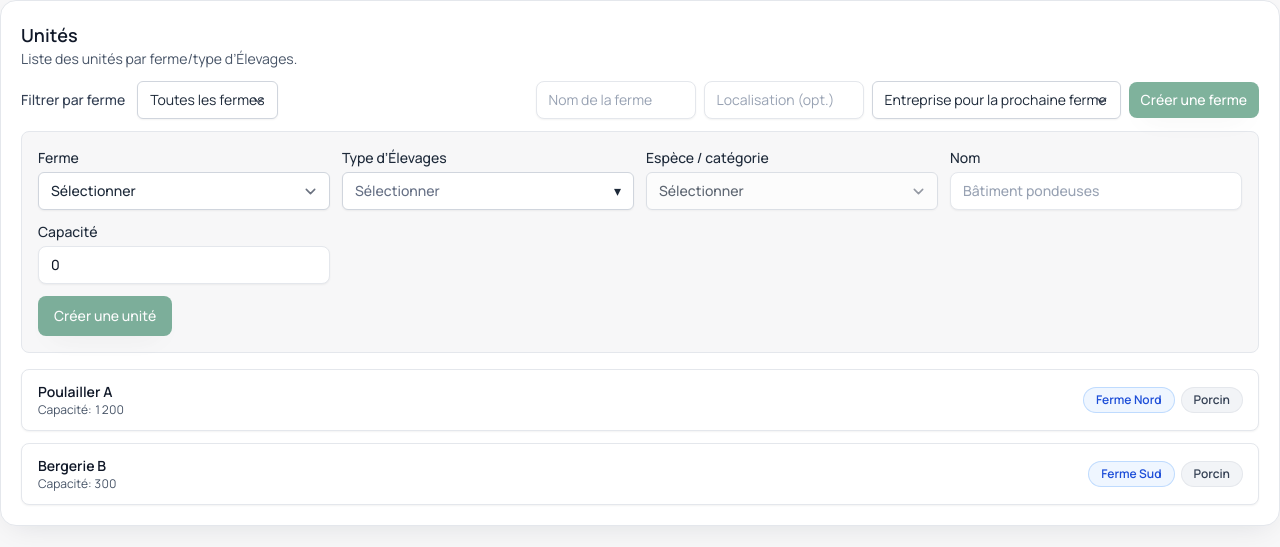
UnitsPage › filtre par ferme sélectionnée
Expected: the text "Poulailler A" is shown, [38, 382, 124, 402]
Expected: the text "Bergerie B" is shown, [38, 456, 116, 476]
Select "Ferme Sud" in the dropdown labelled "Filtrer par ferme" at (208, 100), box [137, 81, 278, 119]
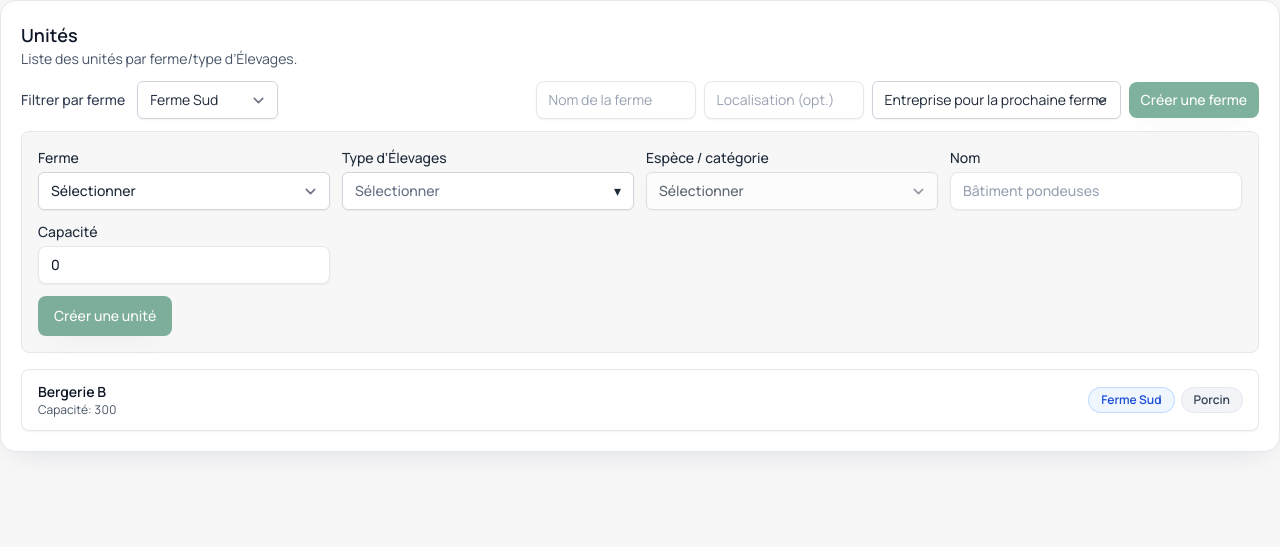
Expected: the text "Bergerie B" is shown, [38, 382, 116, 402]
Result: the text "Poulailler A" is gone
